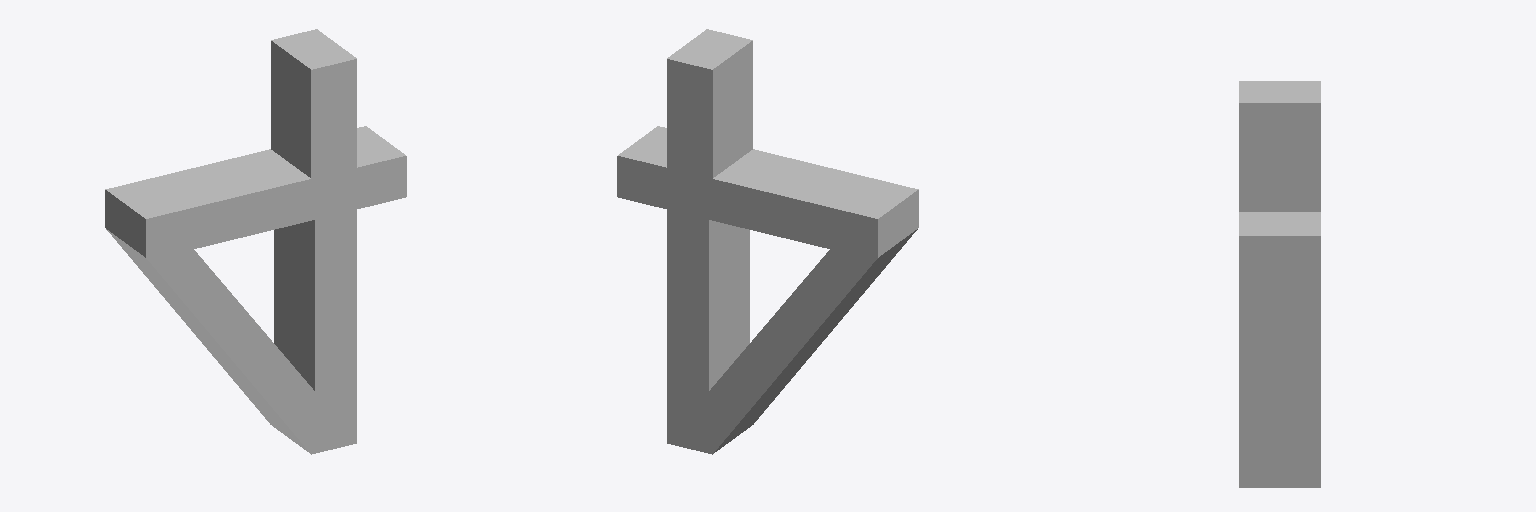
Rendered from Number4.obj.
3 renders of one model, left to right at view 1: azimuth 30°, elevation 25°; view 2: azimuth 150°, elevation 25°; view 3: azimuth 270°, elevation 25°, orthographic.
Parts seen in each view (by area): view 1: typeMesh1; view 2: typeMesh1; view 3: typeMesh1.
Boxes of the visible parts, x1,y1,x2,y2 form: typeMesh1: [105, 29, 406, 454]; typeMesh1: [617, 29, 918, 454]; typeMesh1: [1239, 81, 1320, 487].
Size of the model in its own units: 0.9487 by 1.34 by 0.2559.